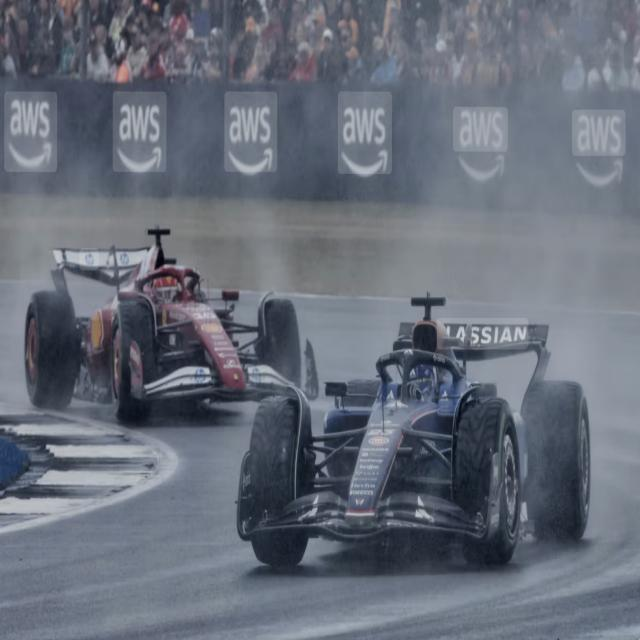Ferrari: (24, 224, 319, 422)
Williams: (237, 294, 590, 572)
